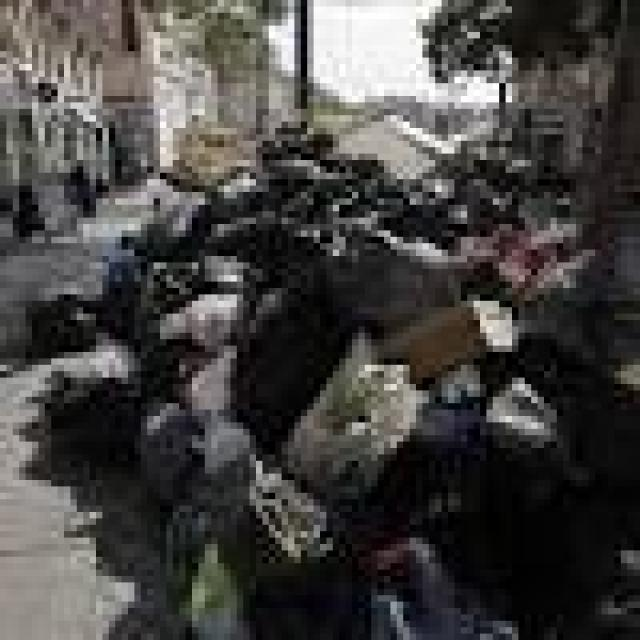garbage: (76, 160, 634, 634)
